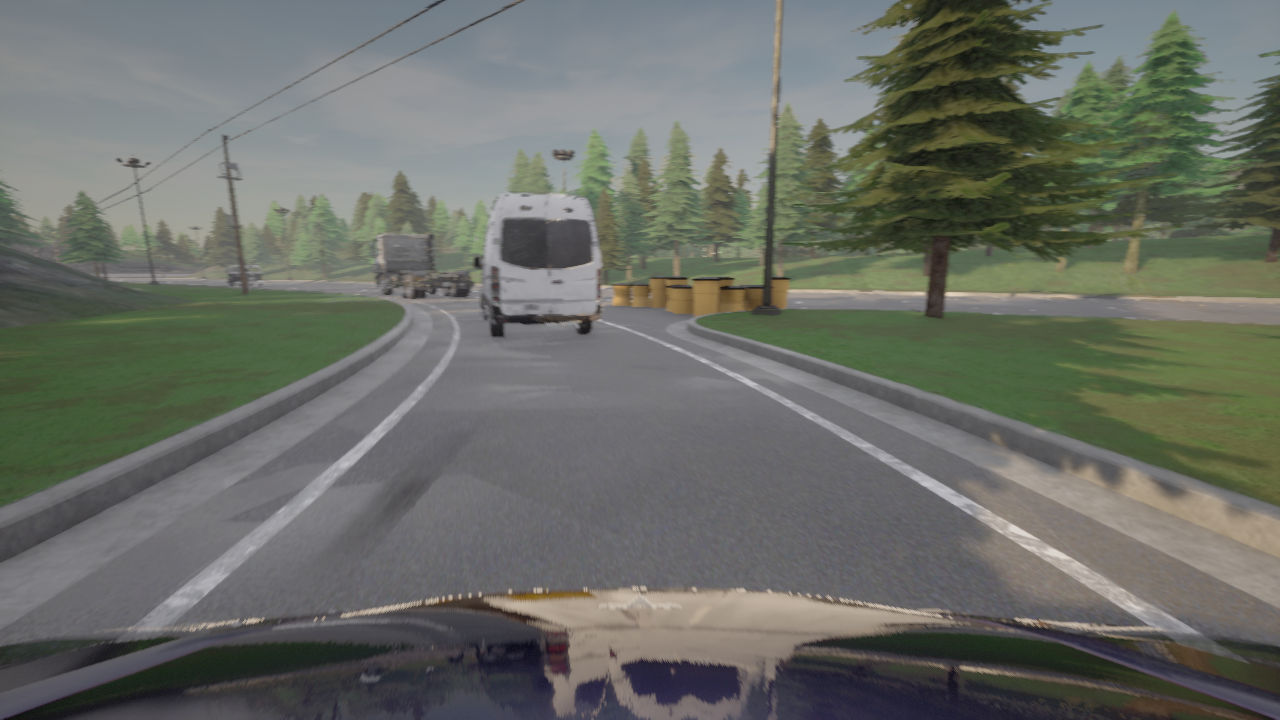cyclist: (0, 588, 1279, 719), (473, 193, 602, 337), (369, 233, 473, 298), (225, 264, 263, 286)
